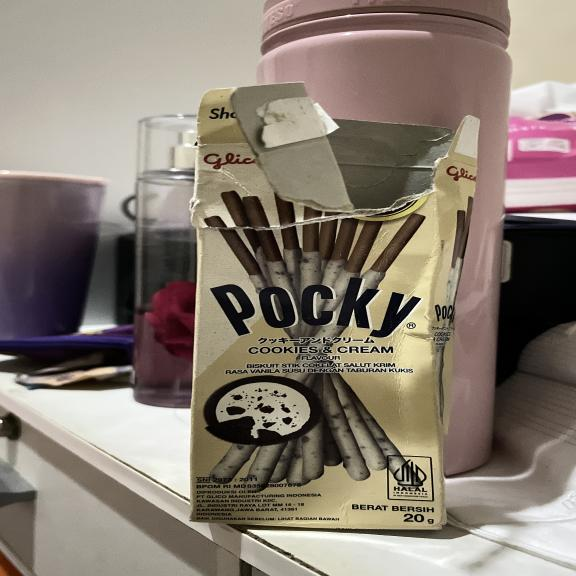Kertas: (186, 144, 473, 534)
